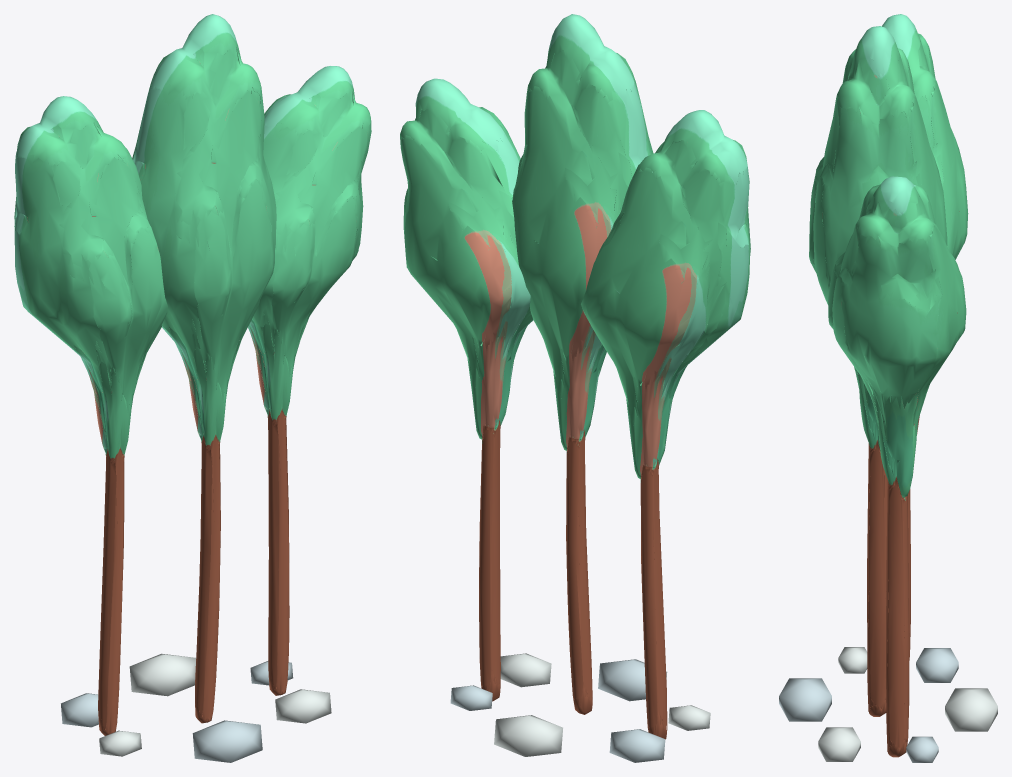
Rendered from lagoon_tree_dancing_birch.glb.
The picture shows the model from 3 angles, left to right: view 1: azimuth 30°, elevation 25°; view 2: azimuth 150°, elevation 25°; view 3: azimuth 270°, elevation 25°; orthographic projection.
Visible parts, largest first — view 1: lagoon_tree_dancing_birch.001; view 2: lagoon_tree_dancing_birch.001; view 3: lagoon_tree_dancing_birch.001.
Boxes of the visible parts, bbox=[...] form: lagoon_tree_dancing_birch.001: bbox=[14, 14, 371, 762]; lagoon_tree_dancing_birch.001: bbox=[400, 14, 750, 762]; lagoon_tree_dancing_birch.001: bbox=[779, 14, 997, 762].
Bounding box in the file's own units: 4.5 × 8.98 × 2.53.
3 materials, 1 textured.
